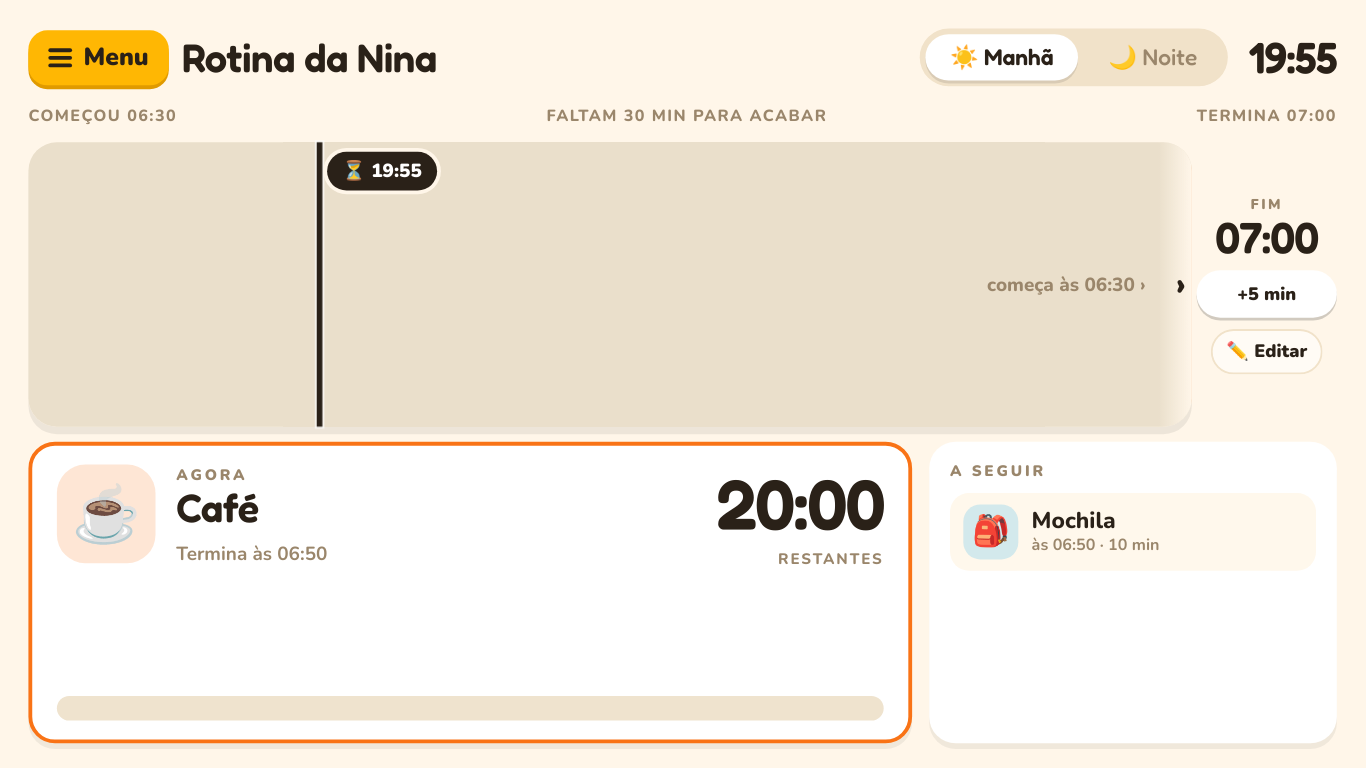
Scenario: clicking a task body starts it now and keeps a near deadline
Click the button "🌙 Noite": (1153, 57) [1084, 34, 1222, 81]
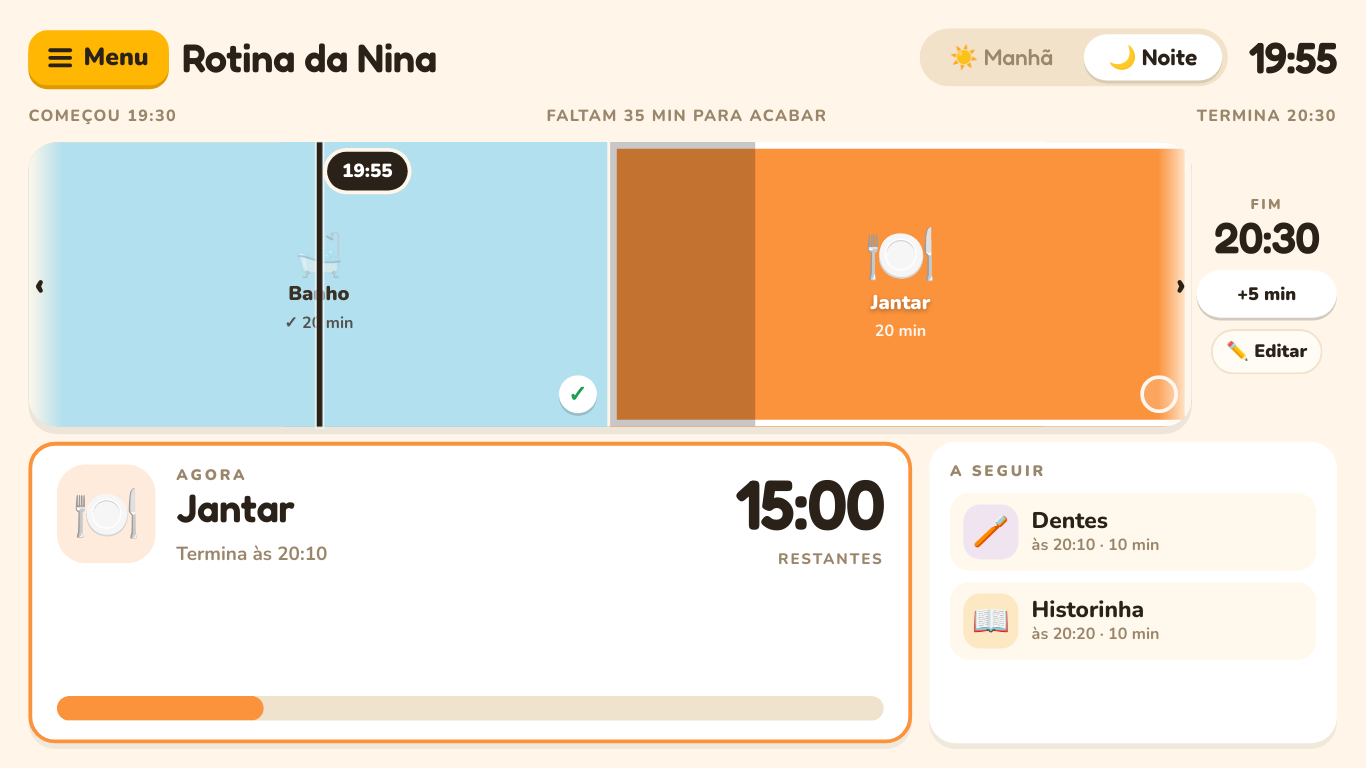
Click the button with aria-label "Pular para Banho": (320, 284) [29, 142, 610, 427]
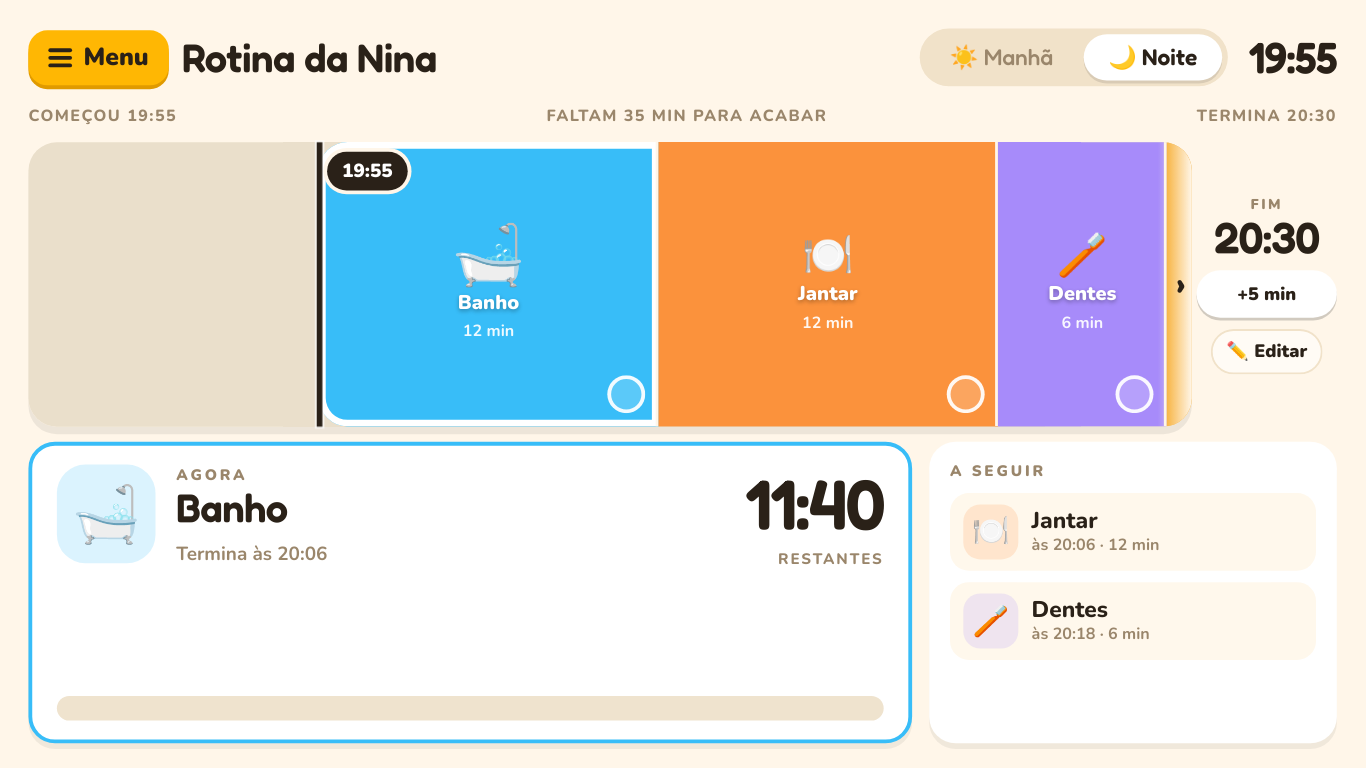
expect the text "TERMINA 20:30" is shown: met, box [1197, 105, 1337, 127]
expect the text "Termina às 20:06" is shown: met, box [177, 536, 328, 573]
